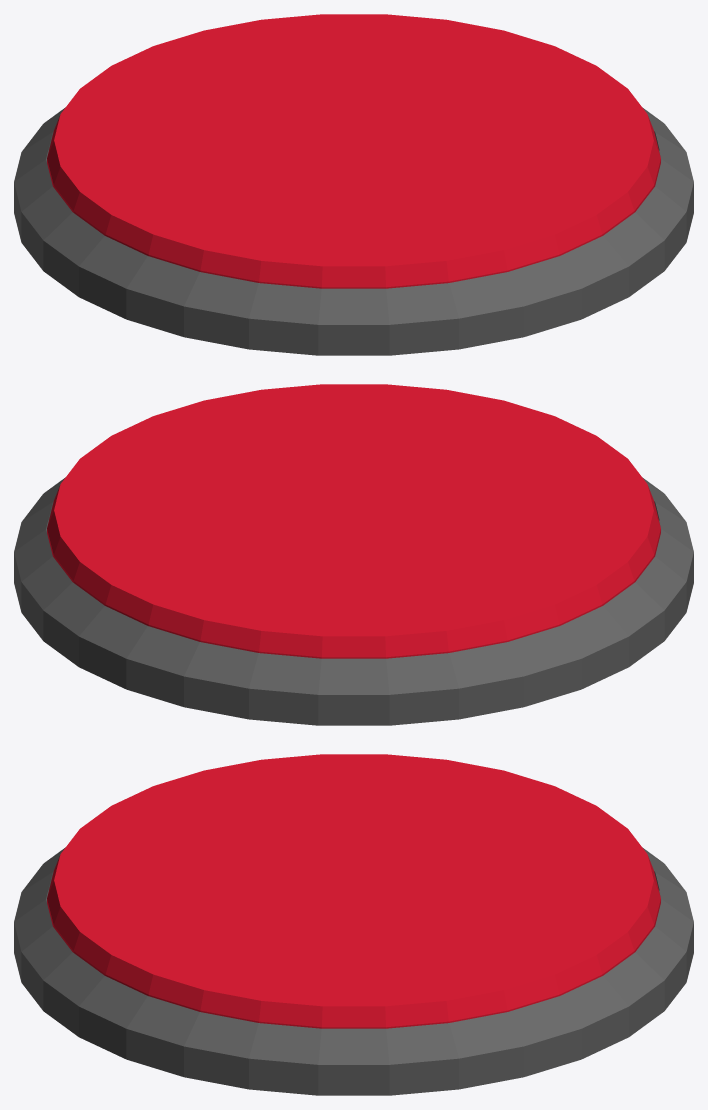
The model's file is bouton.fbx.
3 views of the same model, one above another, from view 1: azimuth 30°, elevation 25°; view 2: azimuth 150°, elevation 25°; view 3: azimuth 270°, elevation 25° (orthographic).
Parts seen in each view (by area): view 1: boutton, plaque; view 2: boutton, plaque; view 3: boutton, plaque.
Part boxes in pixels (<box>): boutton: <box>47,14,660,288</box>; plaque: <box>14,107,693,355</box>; boutton: <box>47,384,660,658</box>; plaque: <box>14,477,693,725</box>; boutton: <box>47,754,660,1028</box>; plaque: <box>14,847,693,1095</box>.
Bounding box in the file's own units: 199 × 23.54 × 200.
